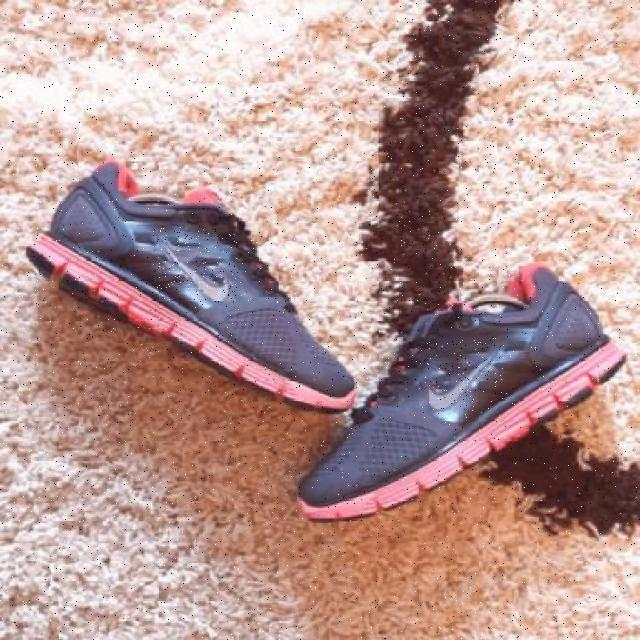Nike: (152, 227, 237, 303), (424, 340, 504, 414)
